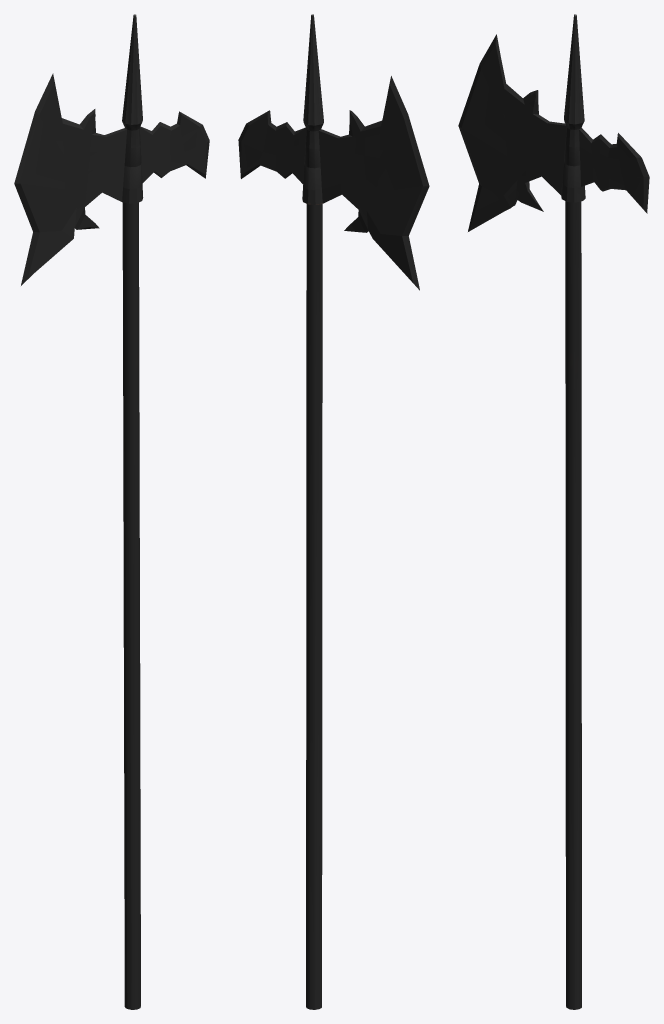
The model's file is Alabarda.fbx.
3 renders of one model, left to right at view 1: azimuth 30°, elevation 25°; view 2: azimuth 150°, elevation 25°; view 3: azimuth 330°, elevation 25°, orthographic.
Parts seen in each view (by area): view 1: Alabarda; view 2: Alabarda; view 3: Alabarda.
Part boxes in pixels (<box>): Alabarda: <box>14,14,209,1009</box>; Alabarda: <box>238,14,429,1009</box>; Alabarda: <box>458,14,649,1009</box>.
Size of the model in its own units: 2.11 by 10.34 by 0.2382.
1 material, 1 textured.
